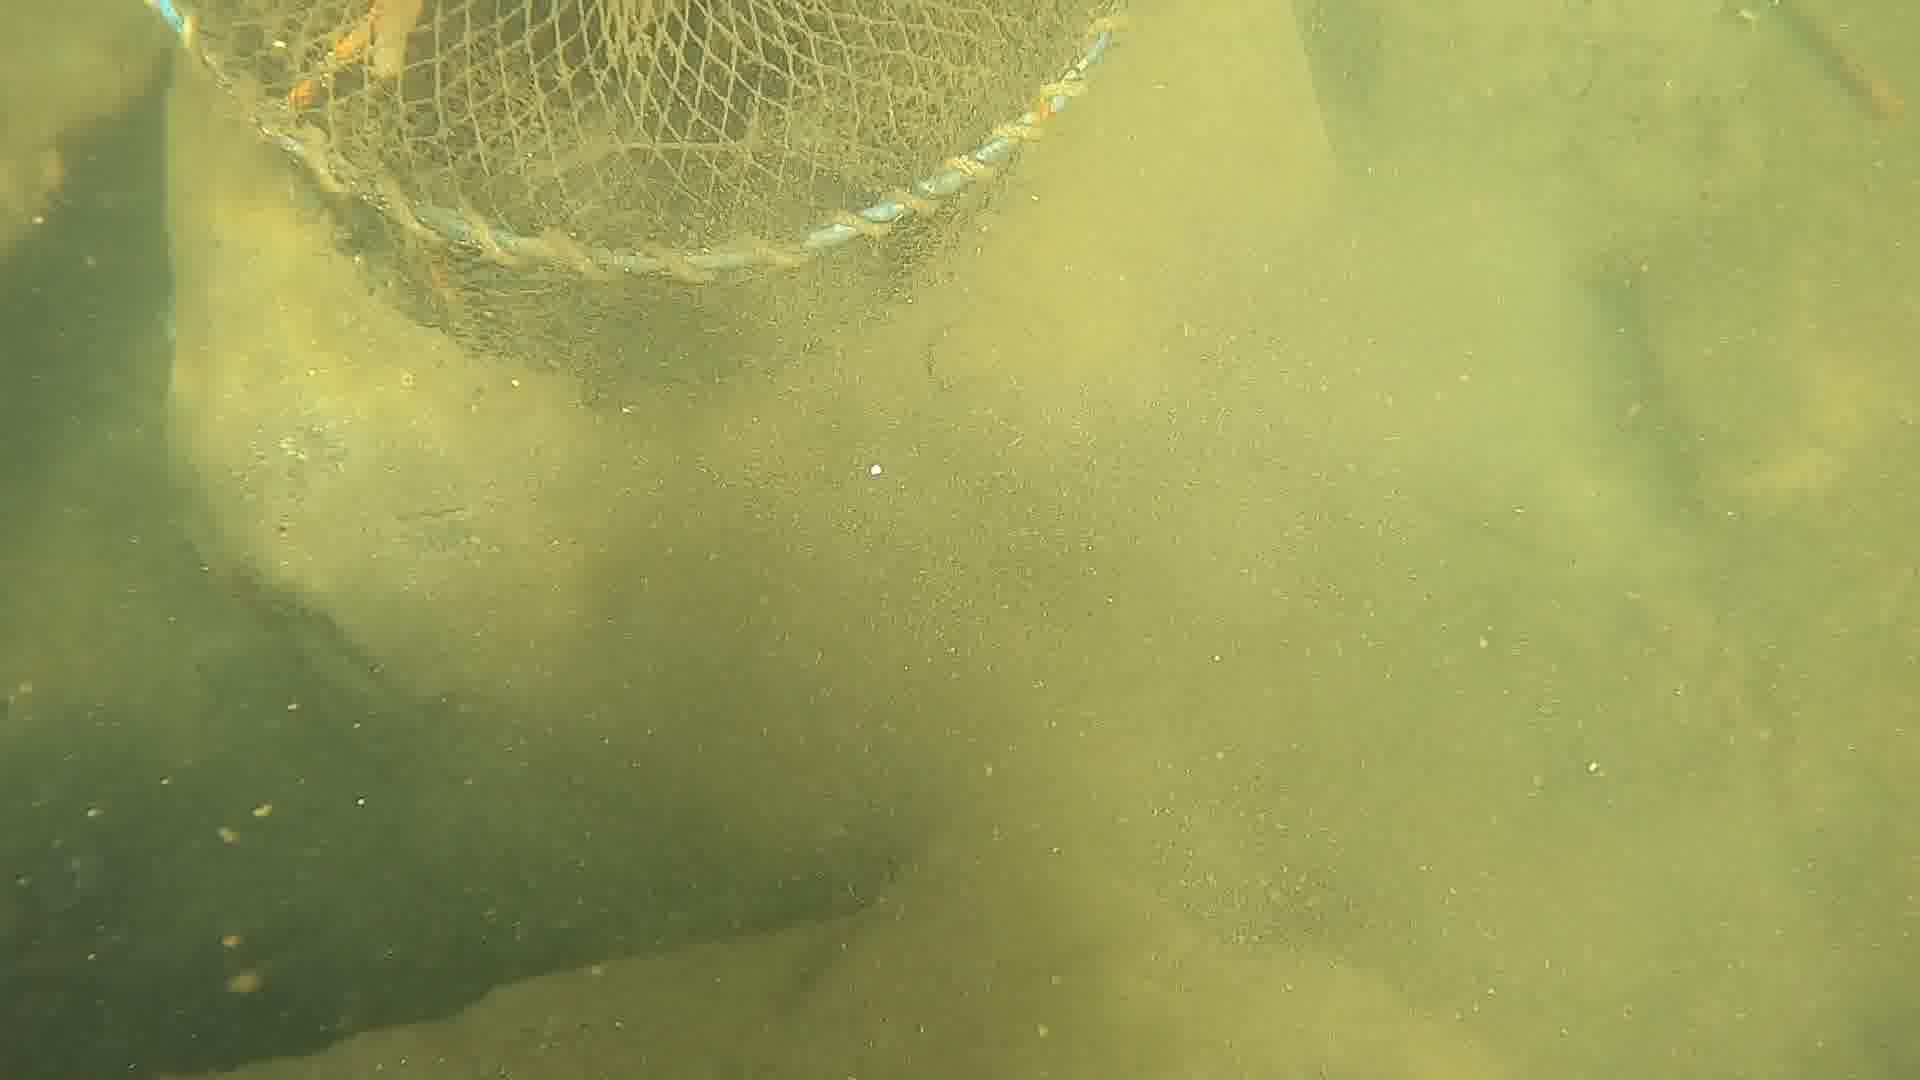circular fish trap: (146, 0, 1110, 378)
